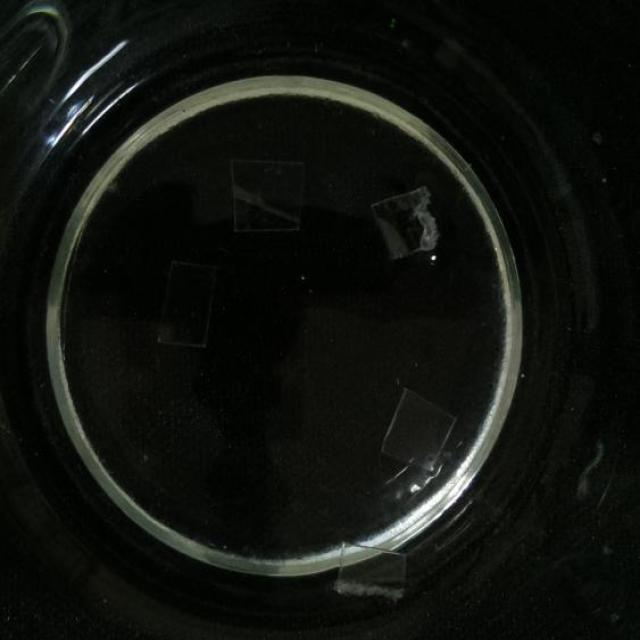fiber: (376, 384, 459, 472), (225, 157, 308, 236), (367, 185, 445, 262), (154, 255, 217, 350), (331, 535, 410, 606)
